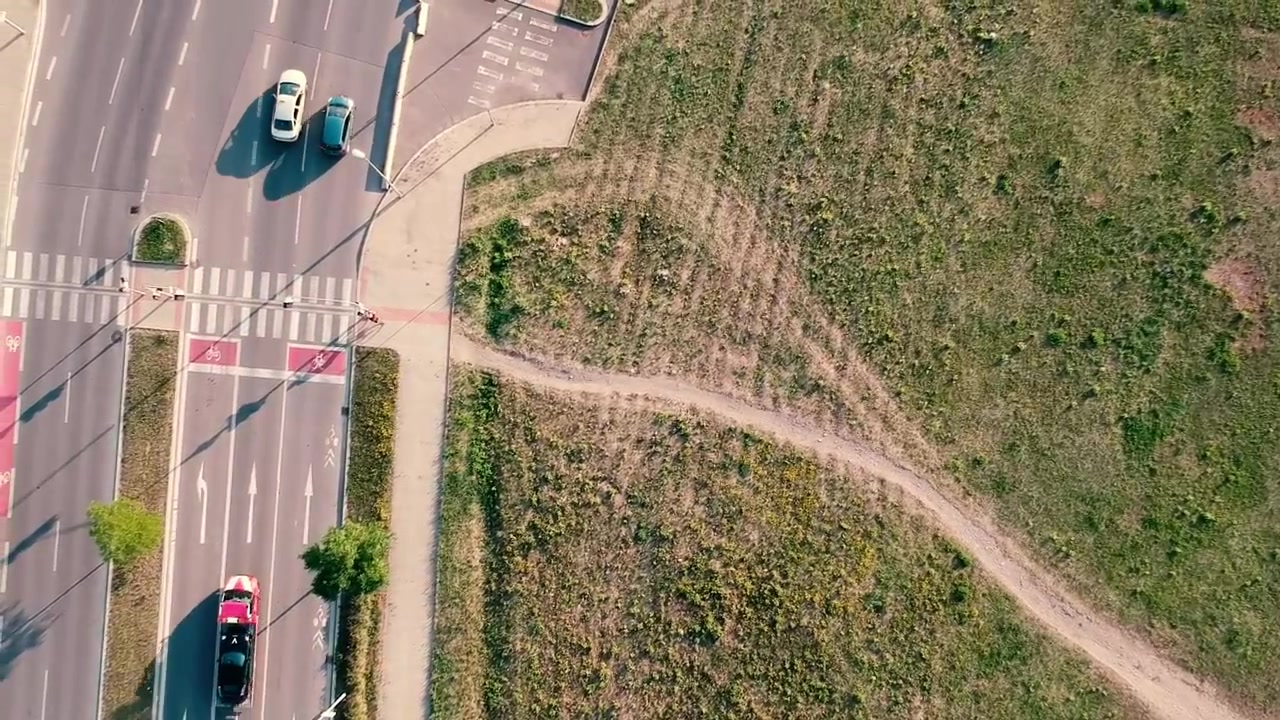car: (214, 571, 264, 720), (271, 67, 309, 147), (319, 93, 357, 159)
